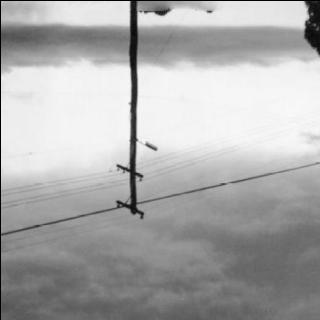Stratus: (0, 165, 320, 320), (299, 70, 320, 78)
